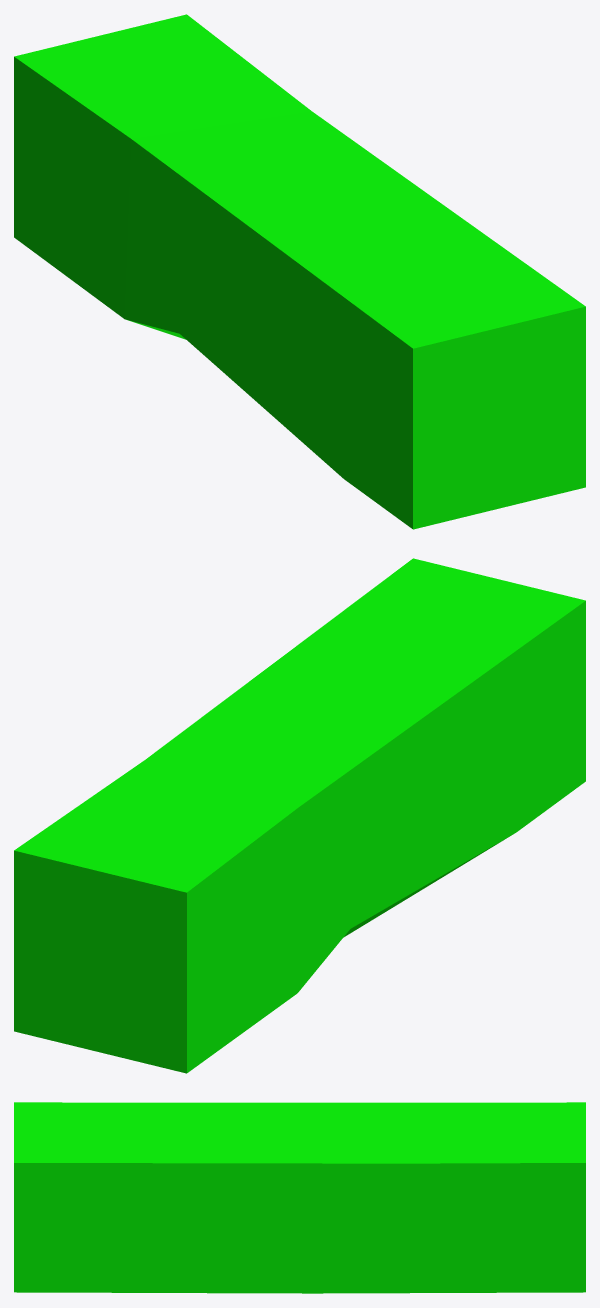
The model's file is SM_Wall_Beam_Horizontal_Mid_Out_A_1m.fbx.
3 renders of one model, top to bottom at view 1: azimuth 30°, elevation 25°; view 2: azimuth 150°, elevation 25°; view 3: azimuth 270°, elevation 25°, orthographic. The views are drawn at different scales.
Visible parts, largest first — view 1: wall-beam-horizontal-mid-out-a-1m; view 2: wall-beam-horizontal-mid-out-a-1m; view 3: wall-beam-horizontal-mid-out-a-1m.
Part boxes in pixels (x1,y1,x2,y2): wall-beam-horizontal-mid-out-a-1m: (14, 14, 585, 529); wall-beam-horizontal-mid-out-a-1m: (14, 558, 585, 1073); wall-beam-horizontal-mid-out-a-1m: (14, 1102, 585, 1293).
Size of the model in its own units: 0.2546 by 0.2522 by 1.
